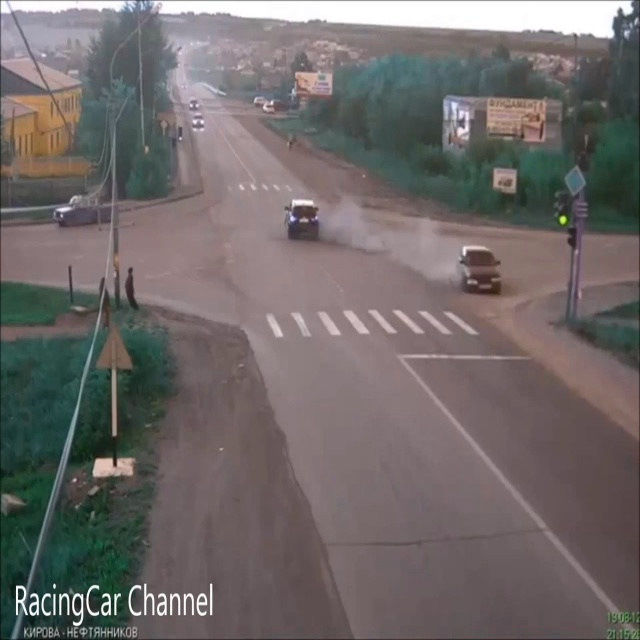acc: (330, 208, 503, 294)
